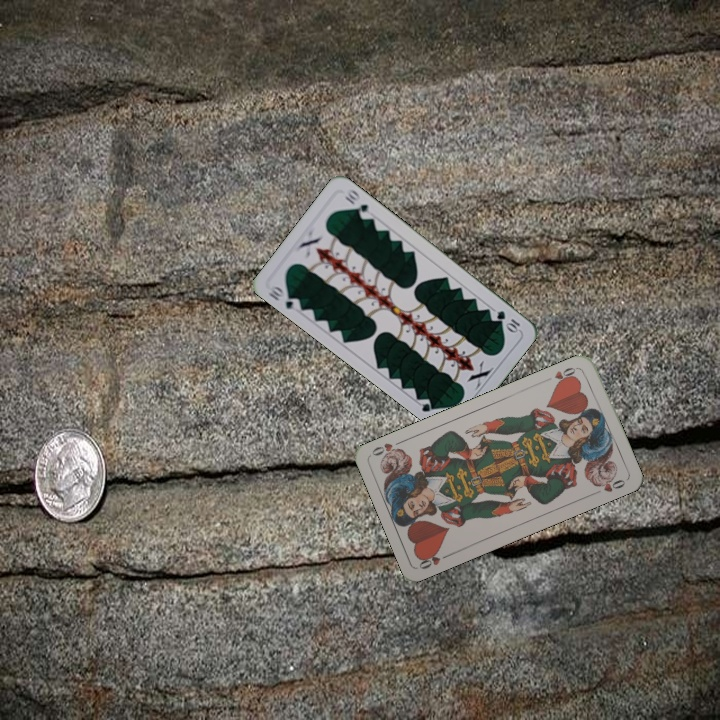G10: (265, 281, 303, 314), (492, 306, 523, 335)
HO: (542, 363, 581, 388), (415, 547, 454, 572)
